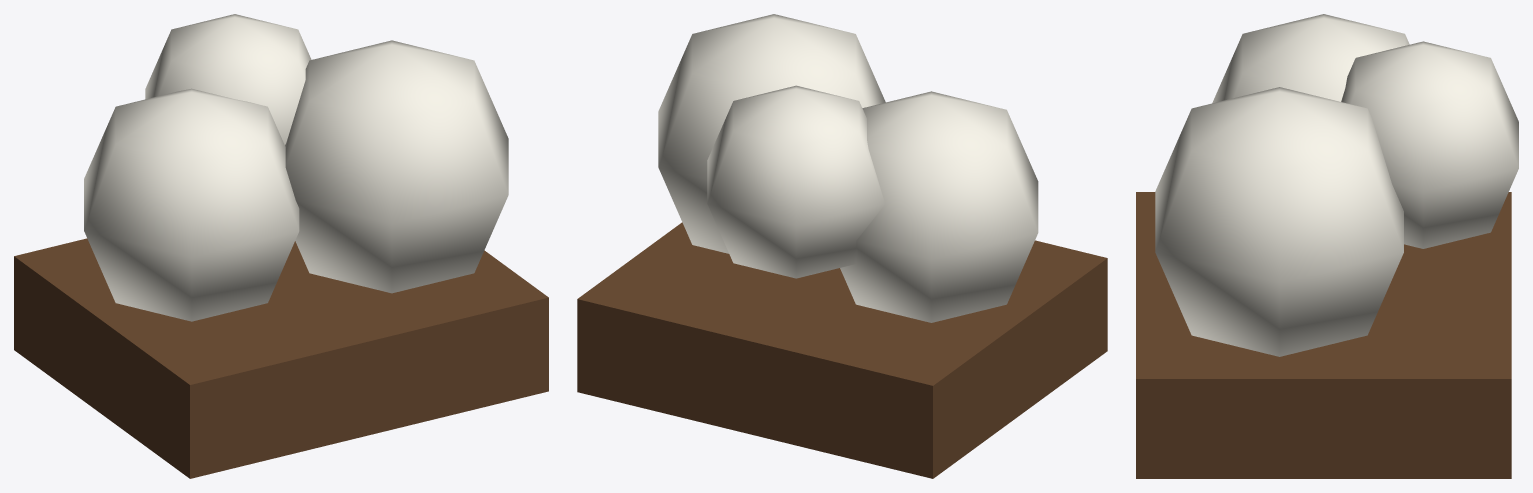
The model's file is item_cotton.glb.
The picture shows the model from 3 angles, left to right: view 1: azimuth 30°, elevation 25°; view 2: azimuth 150°, elevation 25°; view 3: azimuth 270°, elevation 25°; orthographic projection. The views are drawn at different scales.
Visible parts, largest first — view 1: item_cotton; view 2: item_cotton; view 3: item_cotton.
Part boxes in pixels (x1,y1,x2,y2): item_cotton: [14, 14, 548, 478]; item_cotton: [577, 14, 1107, 478]; item_cotton: [1136, 14, 1518, 478].
Size of the model in its own units: 0.45 by 0.34 by 0.3466.
